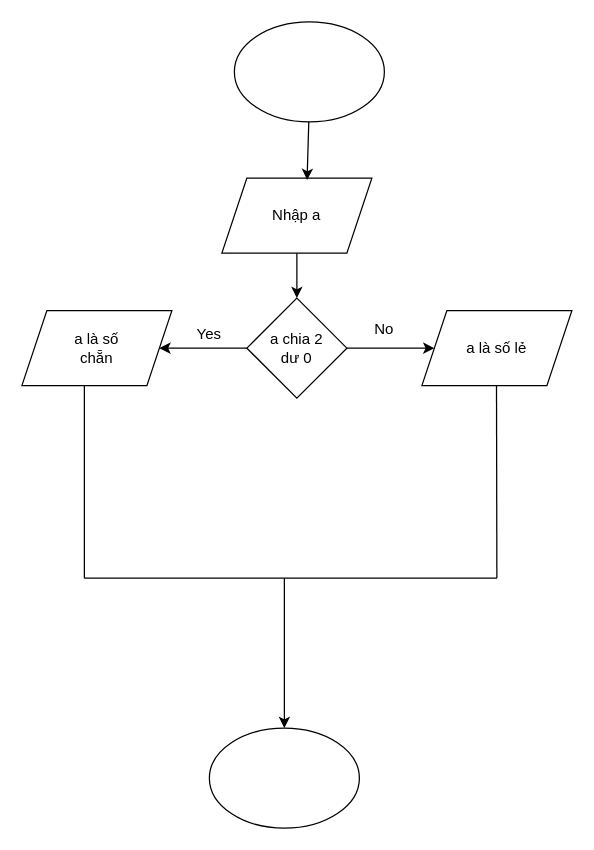
This 594x850 diagram has some shape labels left out. The shapes that lost their labels are listed below. From the top down, each one's centre as x and y in pixels, then its label:
(308,71): Bắt đầu
(283,777): End
